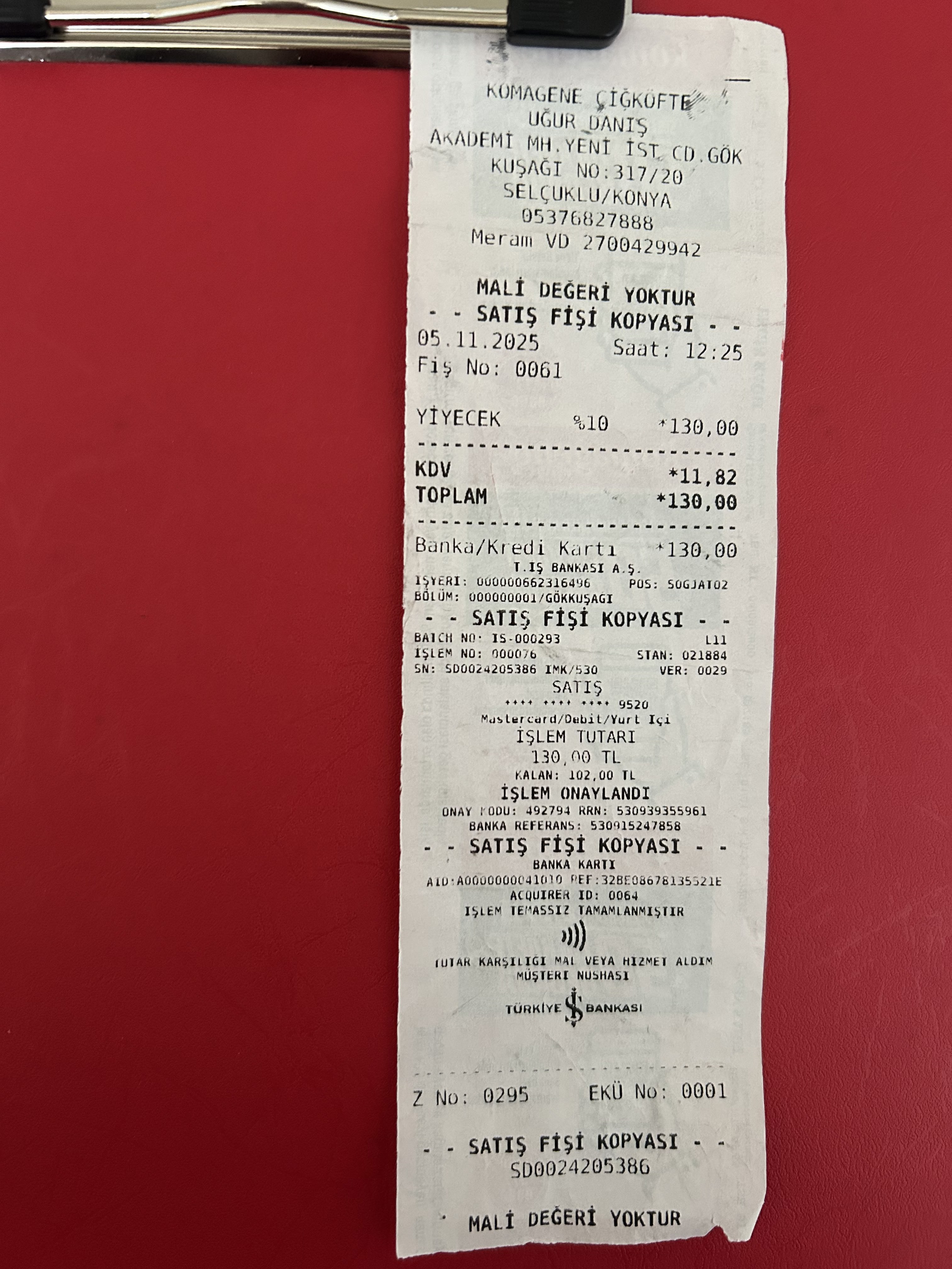date: (664, 487, 743, 518)
price: (411, 324, 546, 354)
workplace: (425, 77, 758, 208)
